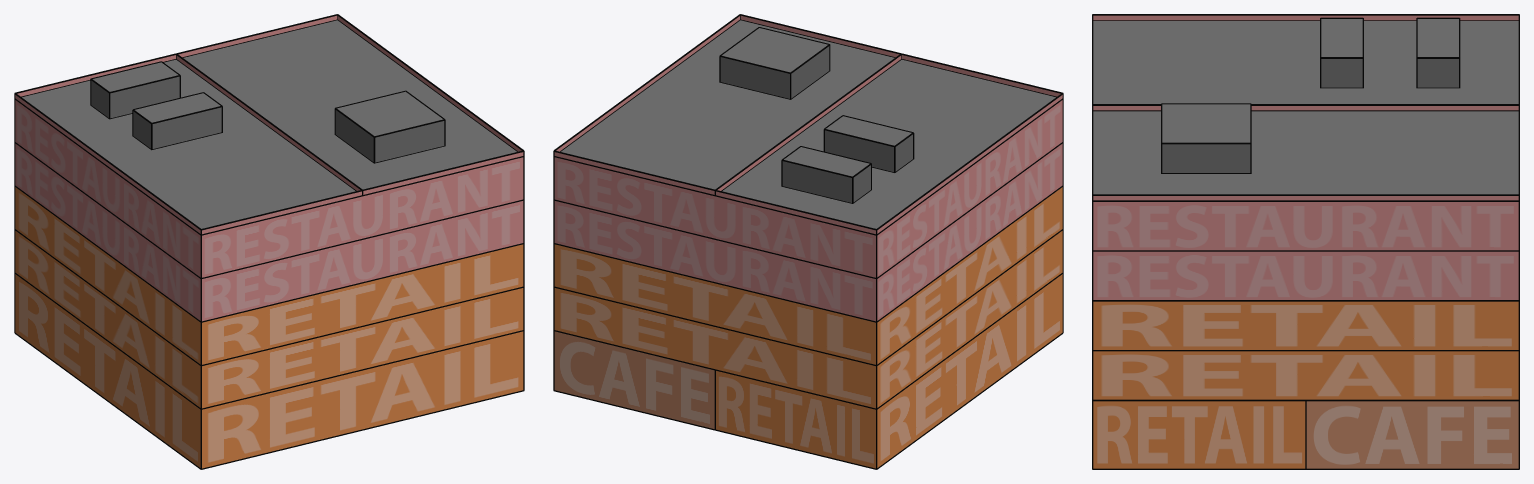
3 renders of one model, left to right at view 1: azimuth 30°, elevation 25°; view 2: azimuth 150°, elevation 25°; view 3: azimuth 270°, elevation 25°, orthographic. The views are drawn at different scales.
Visible parts, largest first — view 1: retail_diagrammatic2, floor_slabs_2, restaurant_diagrammatic2, black_outline; view 2: retail_diagrammatic2, floor_slabs_2, restaurant_diagrammatic2, black_outline, cafe_diagrammatic2; view 3: floor_slabs_2, retail_diagrammatic2, restaurant_diagrammatic2, cafe_diagrammatic2, black_outline.
Part boxes in pixels (x1,y1,x2,y2): retail_diagrammatic2: (15,187,523,468); floor_slabs_2: (22,20,516,228); restaurant_diagrammatic2: (15,15,523,321); black_outline: (14,14,524,469); retail_diagrammatic2: (554,187,1062,468); floor_slabs_2: (561,20,1055,228); restaurant_diagrammatic2: (554,15,1062,321); black_outline: (553,14,1063,469); cafe_diagrammatic2: (554,331,714,428); floor_slabs_2: (1093,19,1518,194); retail_diagrammatic2: (1093,301,1518,468); restaurant_diagrammatic2: (1093,15,1518,299); cafe_diagrammatic2: (1306,401,1518,468); black_outline: (1092,14,1519,469).
Bounding box in the file's own units: 32.68 × 25.24 × 32.68.
